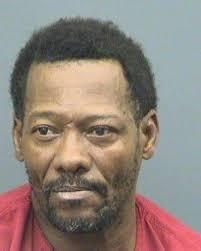normalEye: (20, 105, 131, 154)
normalMouth: (50, 184, 99, 202)
